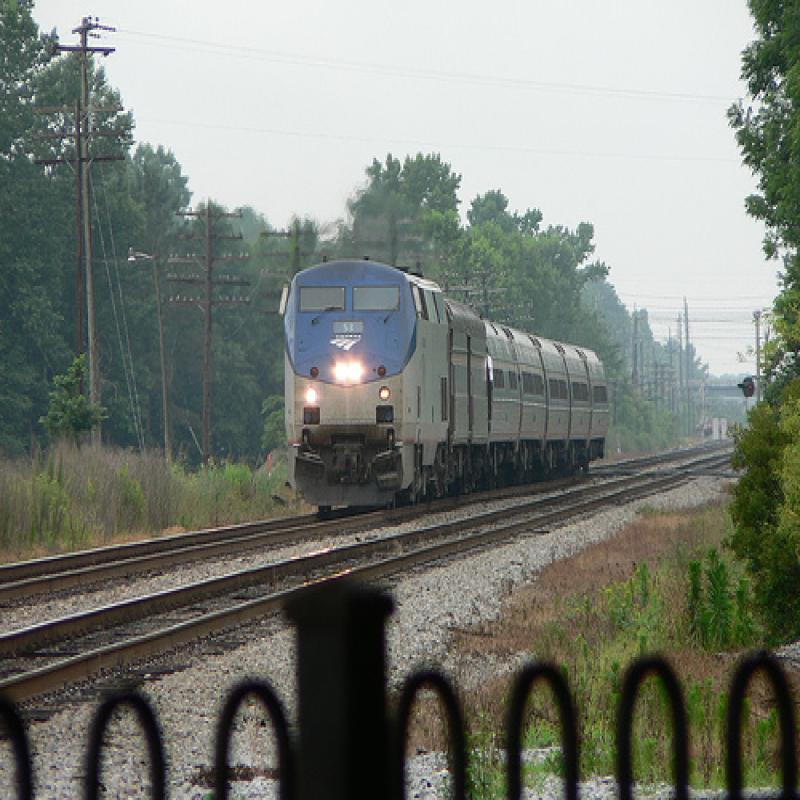train: (278, 251, 612, 522)
